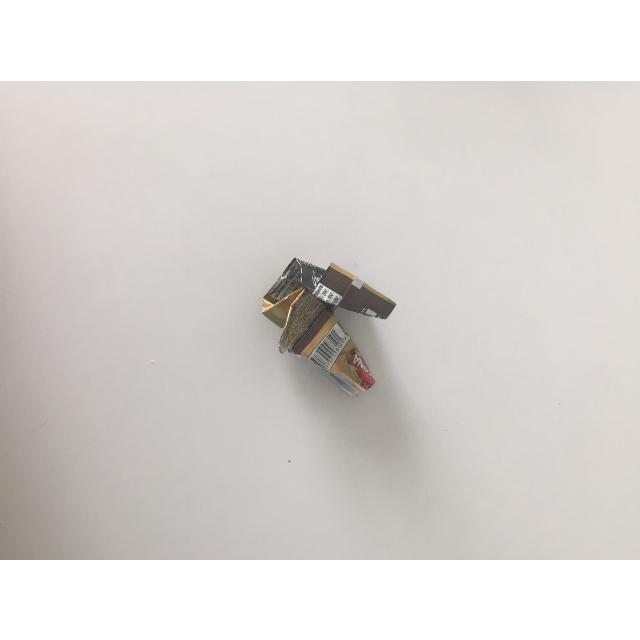Paquete de plastico: (261, 256, 398, 396)
